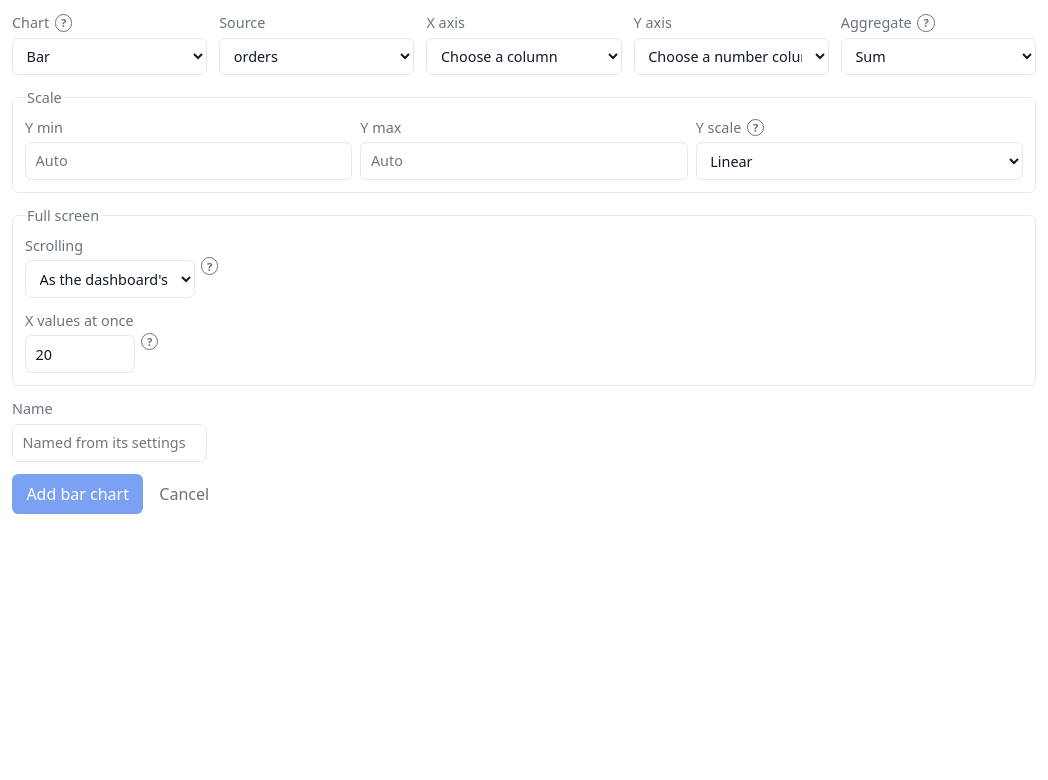
Test: counts a table by its shown columns, sorting by the count, most first, unless told otherwise
Later steps or results of the test are not shown.
Step 1. Select "Table" in the dropdown labelled "Chart" → point(110, 56), box [12, 38, 207, 75]
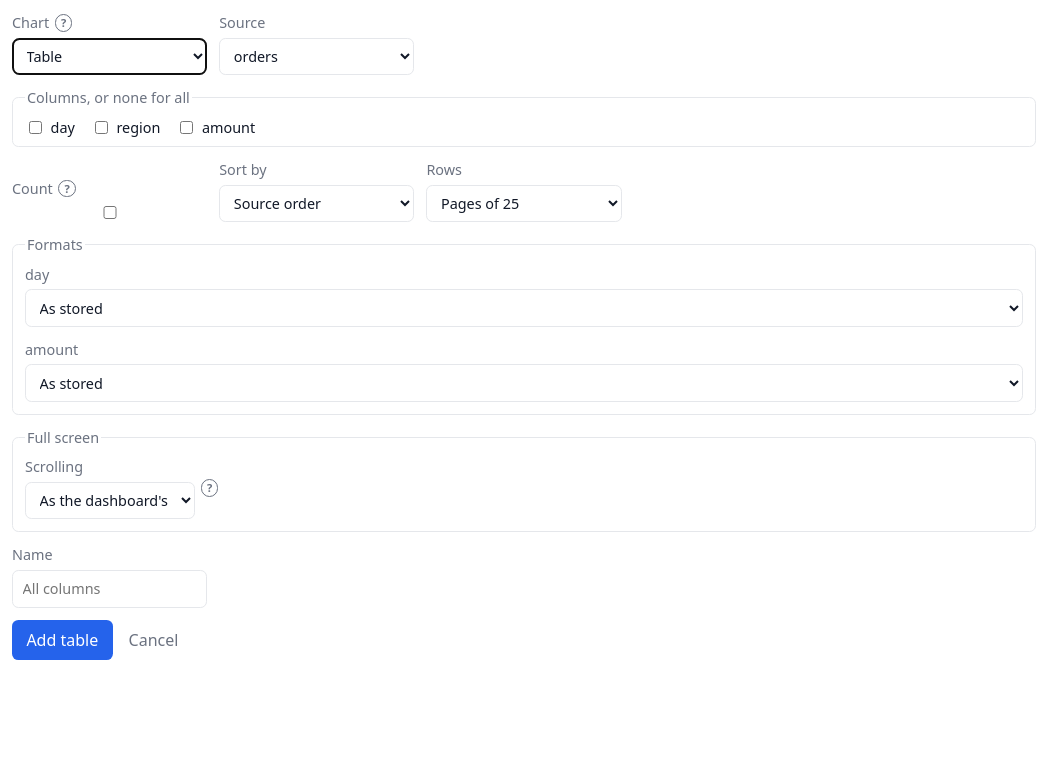
Step 2. Click the checkbox labelled "region" → point(101, 127), box [95, 121, 108, 134]
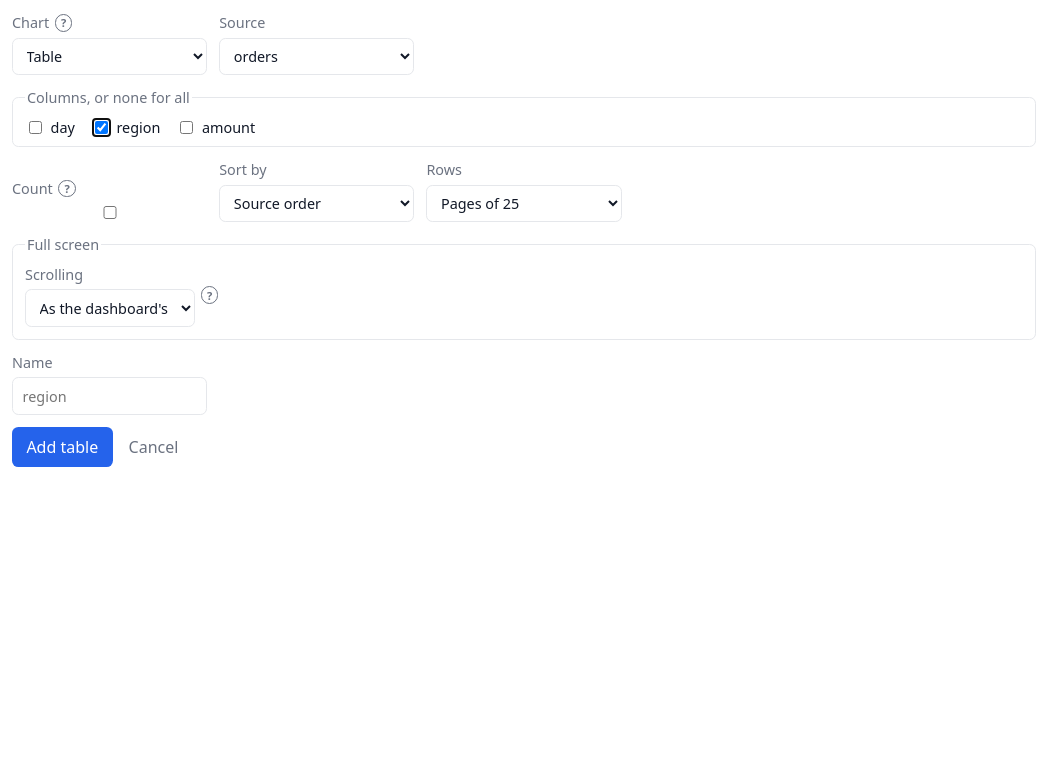
Step 3. Click the checkbox labelled "Count" → point(110, 213), box [16, 206, 204, 219]
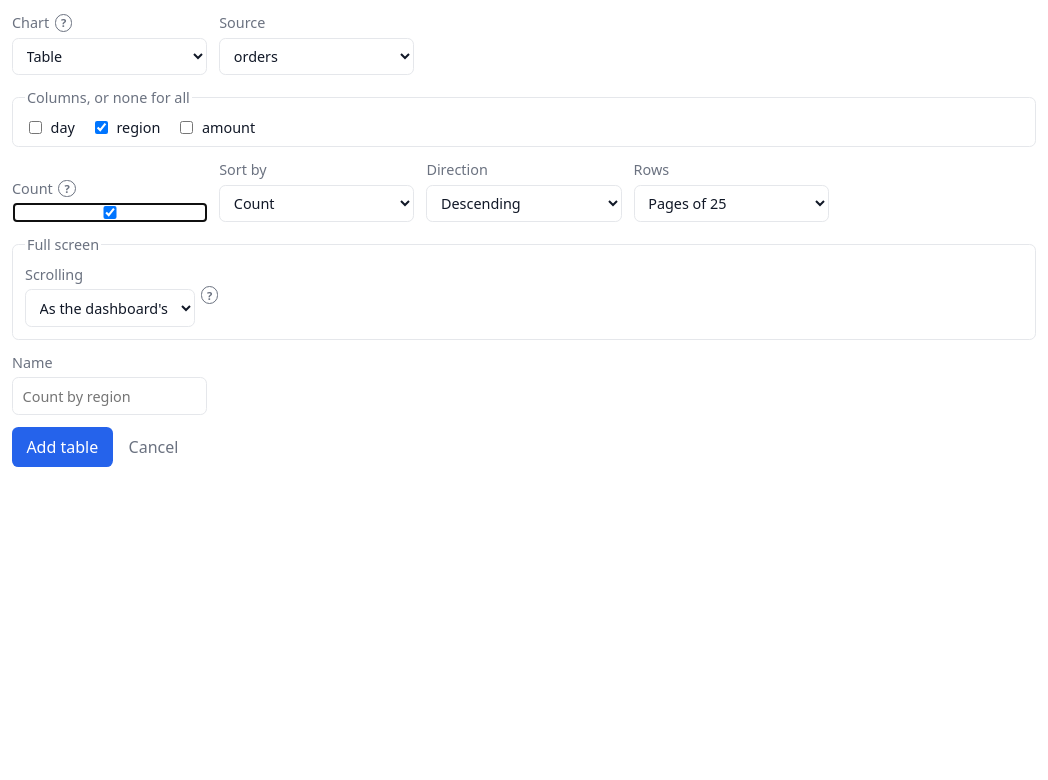
Check: the dropdown labelled "Direction" shows "Descending", box [426, 185, 622, 222]
